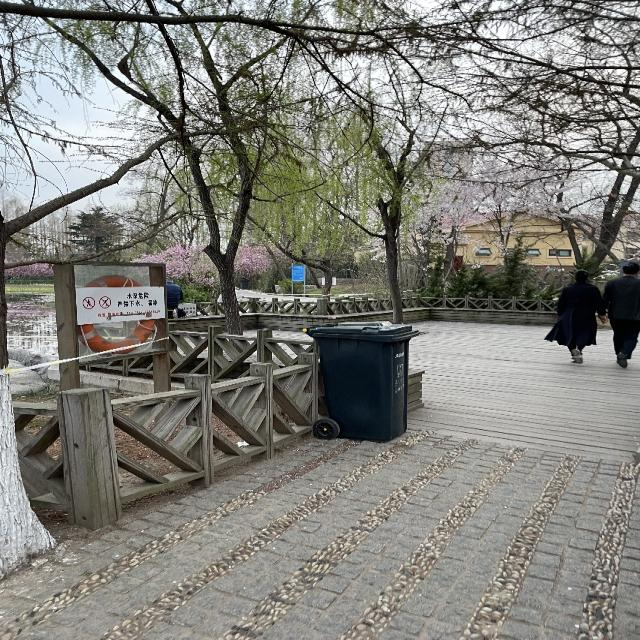garbage_bin: (302, 320, 420, 442)
